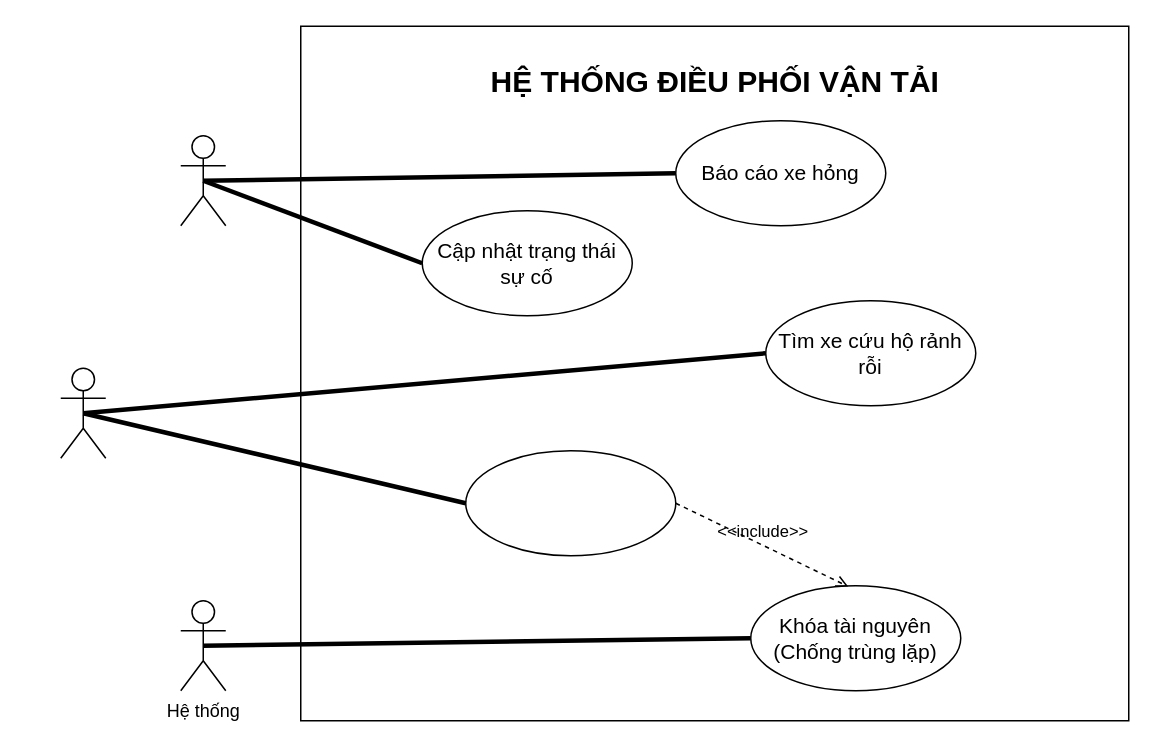
Some shapes in this 1155 by 749 pixel diagram are drawn without their labels. Here are the shapes that lost their labels. From the top down, the centre of each, then its label:
At point 202,180: "Tài xế".
At point 82,412: "Điều phối viên".
At point 570,502: "Phân công xe cứu hộ".
